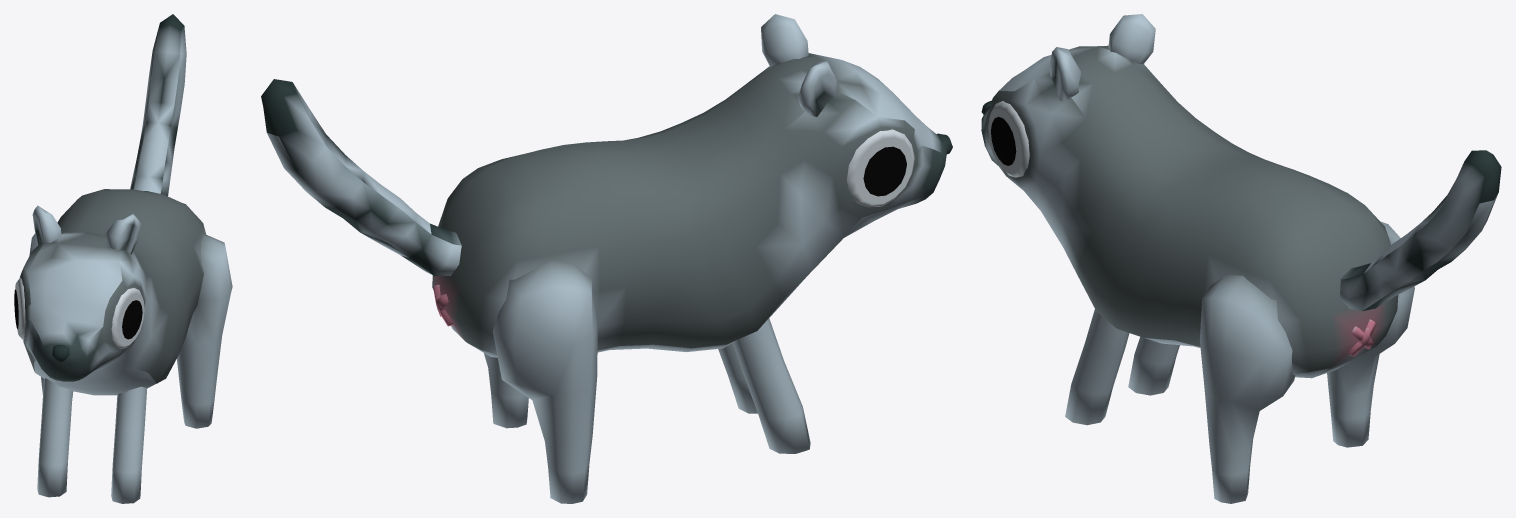
The model's file is Lemur.glb.
3 renders of one model, left to right at view 1: azimuth 30°, elevation 25°; view 2: azimuth 150°, elevation 25°; view 3: azimuth 270°, elevation 25°, orthographic. The views are drawn at different scales.
Visible parts, largest first — view 1: 89; view 2: 89; view 3: 89.
Boxes of the visible parts, box(x1,y1,x2,y2) form: 89: box(14, 14, 232, 503); 89: box(261, 14, 952, 503); 89: box(981, 14, 1501, 503).
Size of the model in its own units: 0.7765 by 0.7085 by 0.8492.
